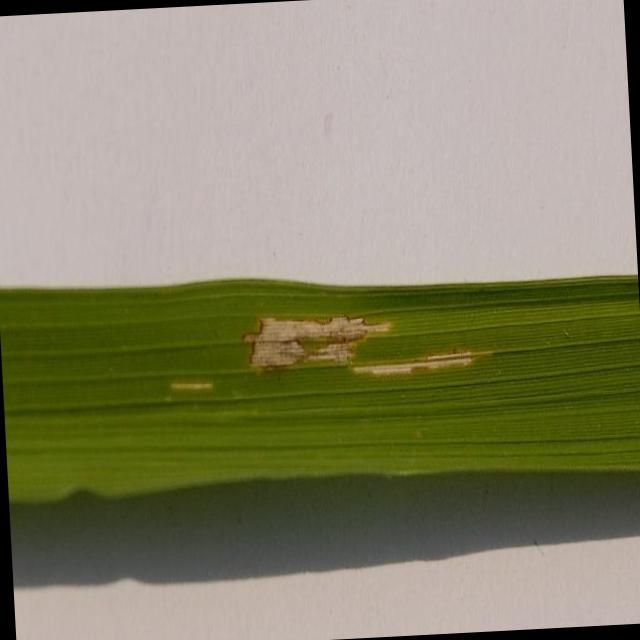Rice_Bacterial_Blight: (155, 289, 542, 440)
